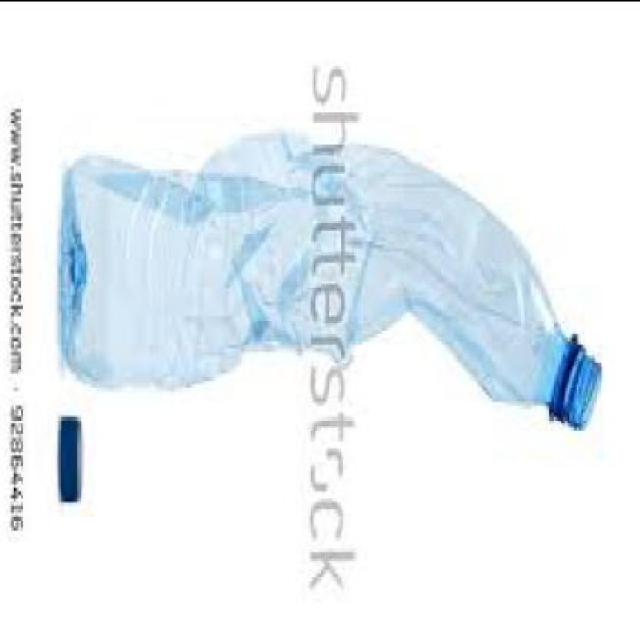plastic: (62, 134, 609, 426), (59, 411, 86, 497)
